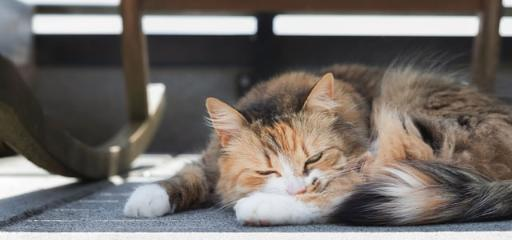cat_sleeping: (124, 64, 511, 225)
